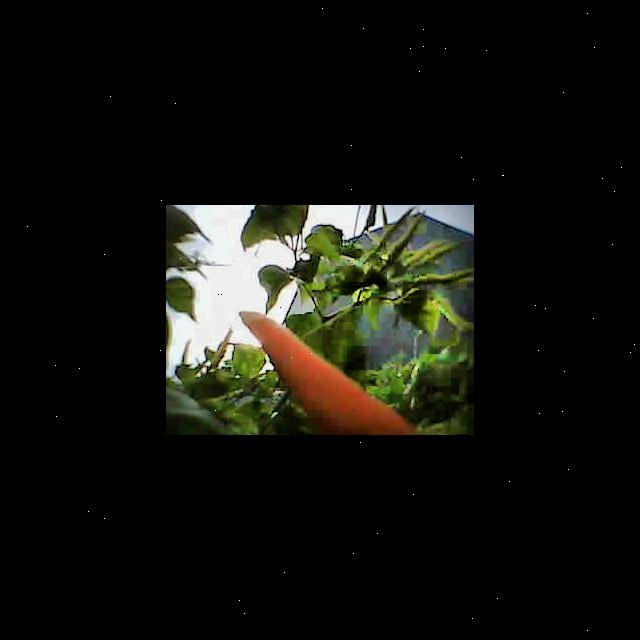Cabai: (248, 315, 400, 435)
